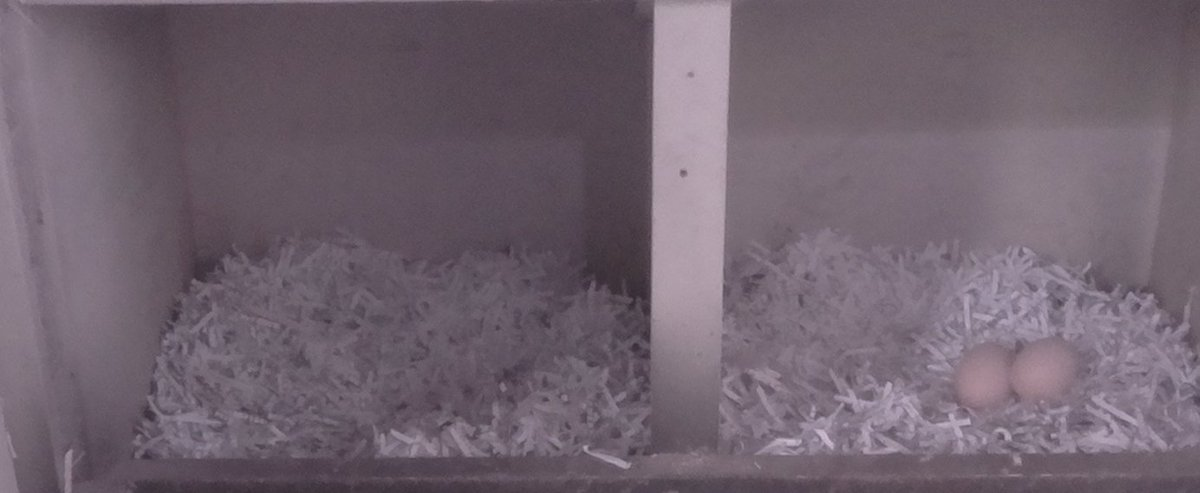egg: (1006, 332, 1090, 416), (949, 337, 1021, 415)
